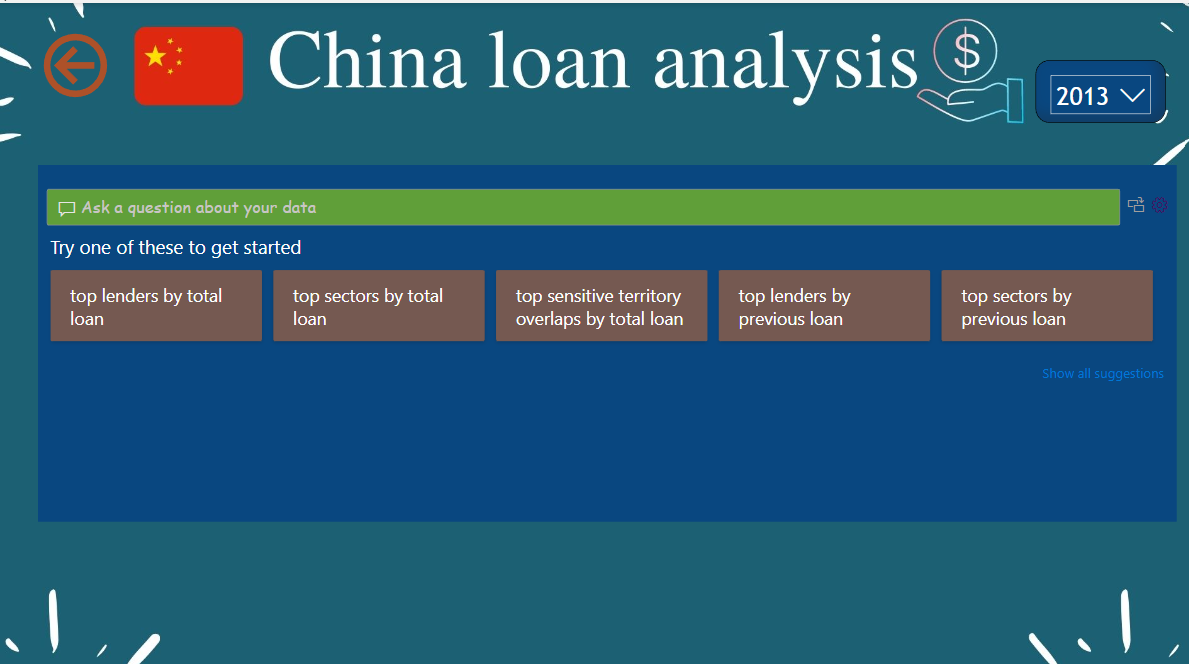

This screenshot's page, from the dashboard's own definition file:
{"tool":"powerbi","page":{"name":"Q&A","canvas":[1280,720],"ordinal":4},"visuals":[{"type":"qnaVisual","box":[0,171.7,1279,379],"z":0},{"type":"actionButton","box":[55.8,38.6,58.7,42.9],"z":1000},{"type":"slicer","fields":{"Values":["china_loan_transformed.YEAR.Variation.Date Hierarchy.Year"]},"box":[1086.4,0,156,108.8],"z":2000}]}

Visuals, with their boxes in screenshot pixels (x1, y1, x2, y2), scaled from the page's 1280x720 canvas onto the 1189x664 screenshot:
qnaVisual: x1=0 y1=158 x2=1188 y2=508
actionButton: x1=52 y1=36 x2=106 y2=75
slicer - china_loan_transformed.YEAR.Variation.Date Hierarchy.Year: x1=1009 y1=0 x2=1154 y2=100
